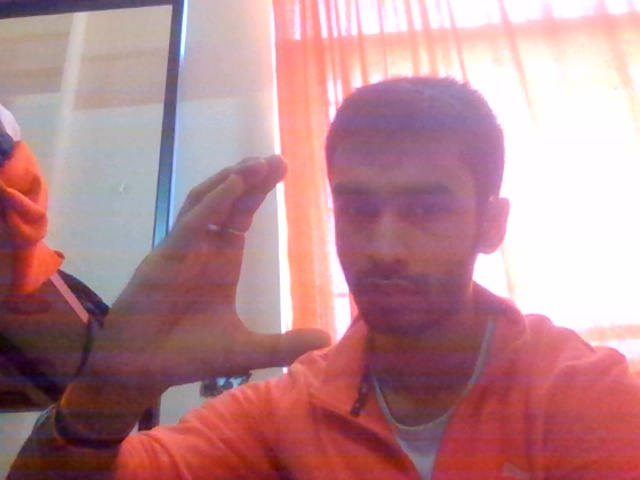C: (51, 131, 336, 425)
